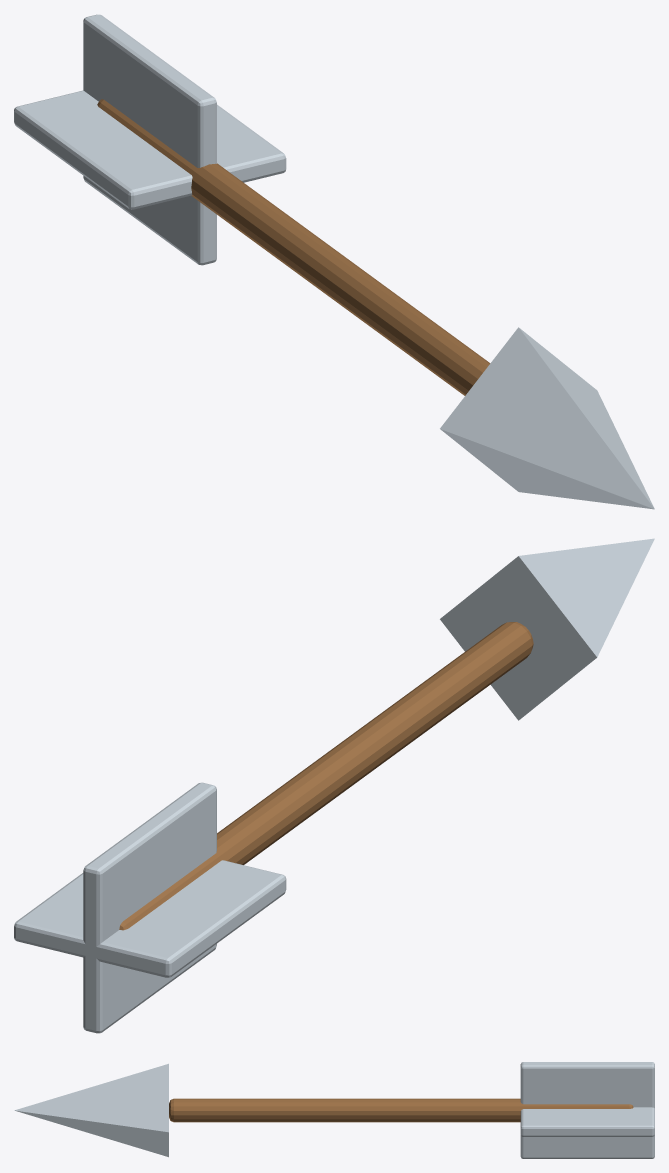
File: arrow.glb
3 views of the same model, one above another, from view 1: azimuth 30°, elevation 25°; view 2: azimuth 150°, elevation 25°; view 3: azimuth 270°, elevation 25° (orthographic). The views are drawn at different scales.
Parts seen in each view (by area): view 1: Arrow_Projectile; view 2: Arrow_Projectile; view 3: Arrow_Projectile.
Part boxes in pixels (x1,y1,x2,y2): Arrow_Projectile: (14, 14, 654, 509); Arrow_Projectile: (14, 538, 654, 1033); Arrow_Projectile: (14, 1062, 654, 1158).
Bounding box in the file's own units: 0.2 × 0.2 × 1.24.
